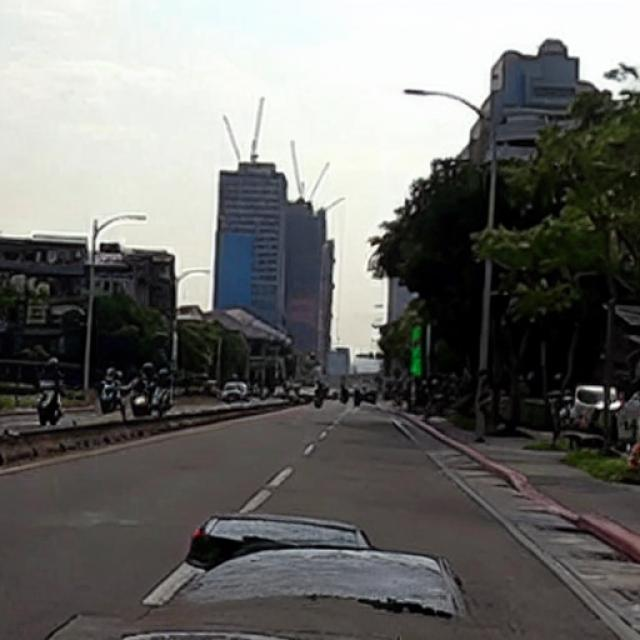puddle: (188, 515, 467, 614)
